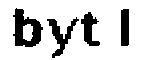b: (10, 5, 45, 54)
l: (116, 3, 139, 49)
t: (80, 9, 104, 53)
y: (45, 14, 80, 60)
